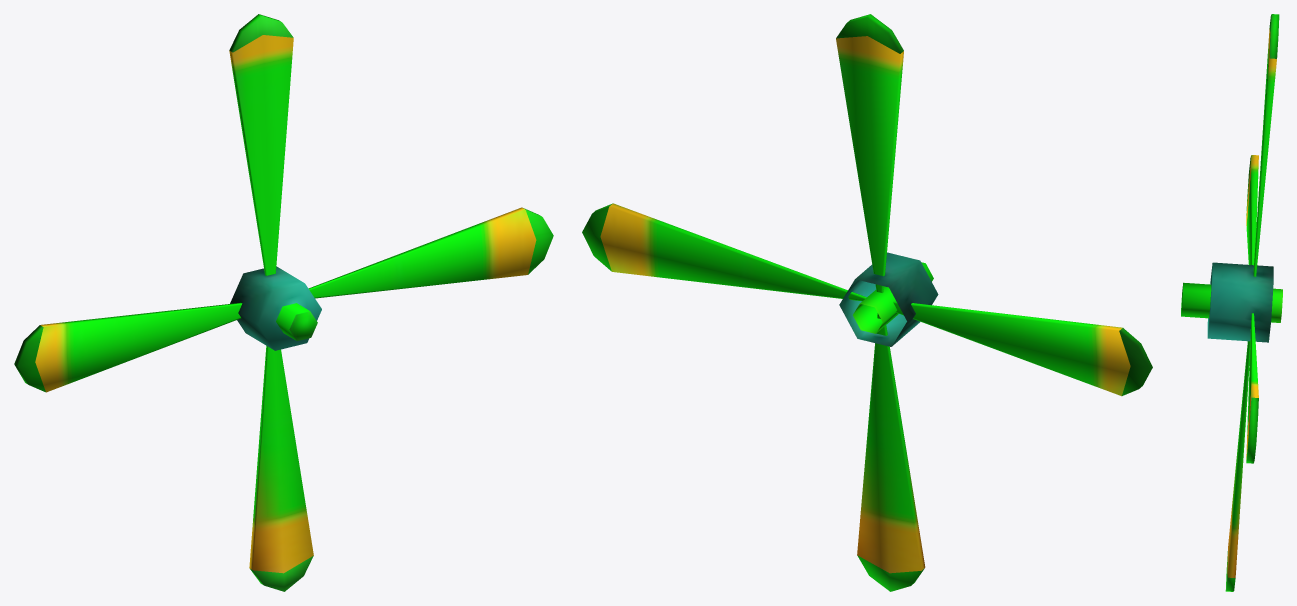
The model's file is plane7_blades2.obj.
3 renders of one model, left to right at view 1: azimuth 30°, elevation 25°; view 2: azimuth 150°, elevation 25°; view 3: azimuth 270°, elevation 25°, orthographic. The views are drawn at different scales.
Parts seen in each view (by area): view 1: Catoon_B29_fan3; view 2: Catoon_B29_fan3; view 3: Catoon_B29_fan3.
Boxes of the visible parts, <box> form: Catoon_B29_fan3: <box>14,14,553,591</box>; Catoon_B29_fan3: <box>582,14,1152,591</box>; Catoon_B29_fan3: <box>1181,14,1282,591</box>.
Size of the model in its own units: 13.55 by 13.53 by 2.16.
1 material, 1 textured.
